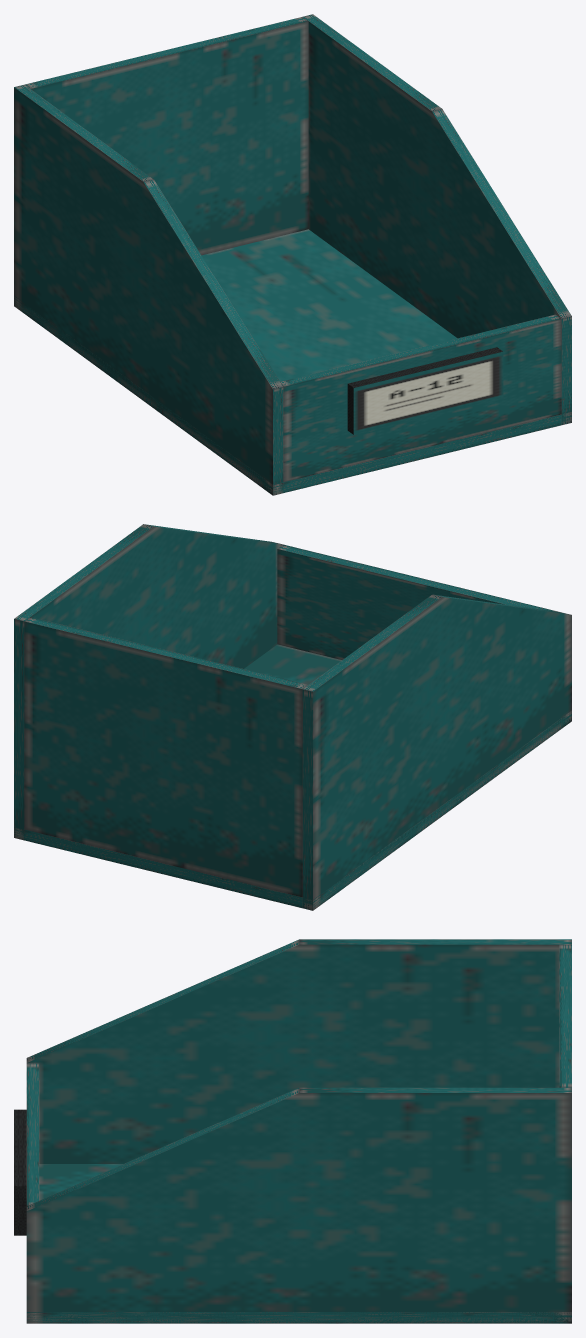
File: SKC-PSX_07_PartsBin.fbx
The picture shows the model from 3 angles, top to bottom: view 1: azimuth 30°, elevation 25°; view 2: azimuth 150°, elevation 25°; view 3: azimuth 270°, elevation 25°; orthographic projection. The views are drawn at different scales.
Visible parts, largest first — view 1: SKC-PSX_07_PartsBin; view 2: SKC-PSX_07_PartsBin; view 3: SKC-PSX_07_PartsBin.
Boxes of the visible parts, x1,y1,x2,y2 form: SKC-PSX_07_PartsBin: (14,14,571,495); SKC-PSX_07_PartsBin: (14,524,571,910); SKC-PSX_07_PartsBin: (14,939,571,1323).
Bounding box in the file's own units: 20 × 14 × 30.7.
1 material, 1 textured.
